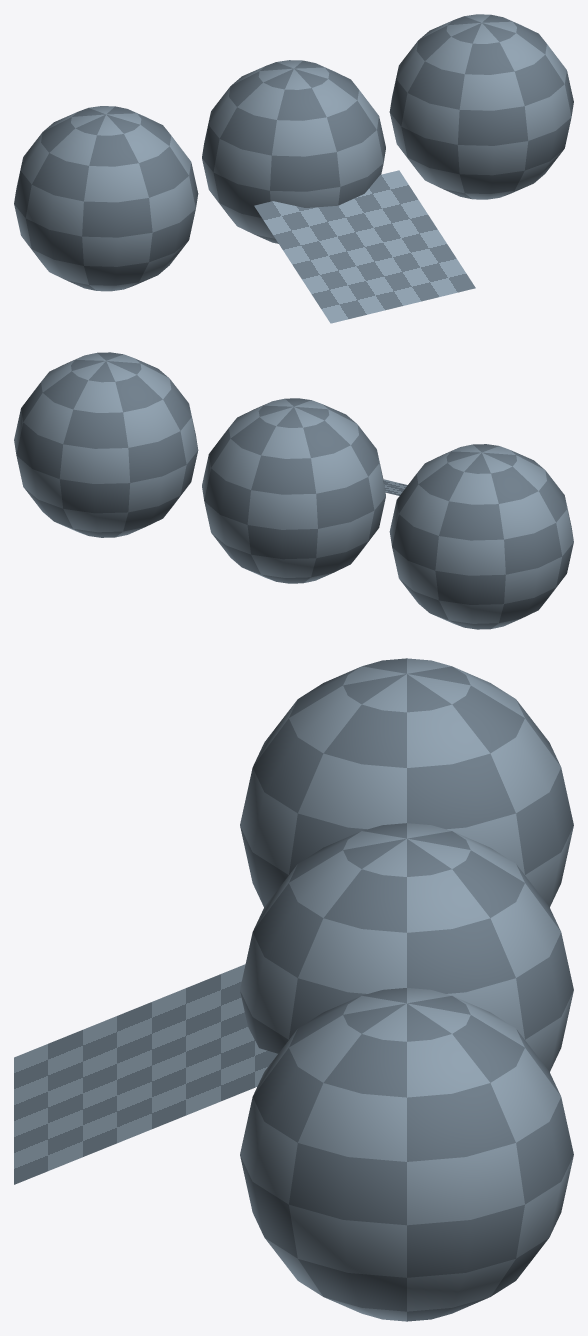
Rendered from pbr_probe.glb.
3 views of the same model, one above another, from view 1: azimuth 30°, elevation 25°; view 2: azimuth 150°, elevation 25°; view 3: azimuth 270°, elevation 25° (orthographic). The views are drawn at different scales.
Parts seen in each view (by area): view 1: PBR_Polished_Metal.002, PBR_Matte_Dielectric.002, PBR_Polished_Dielectric.002, PBR_Normal_Slope; view 2: PBR_Matte_Dielectric.002, PBR_Polished_Metal.002, PBR_Polished_Dielectric.002; view 3: PBR_Polished_Metal.002, PBR_Matte_Dielectric.002, PBR_Polished_Dielectric.002, PBR_Normal_Slope.
Part boxes in pixels (x1,y1,x2,y2): PBR_Polished_Metal.002: (389,14,573,199); PBR_Matte_Dielectric.002: (14,106,198,291); PBR_Polished_Dielectric.002: (202,60,385,243); PBR_Normal_Slope: (254,170,475,323); PBR_Matte_Dielectric.002: (389,444,573,629); PBR_Polished_Metal.002: (14,352,198,537); PBR_Polished_Dielectric.002: (202,398,385,583); PBR_Polished_Metal.002: (240,988,573,1321); PBR_Matte_Dielectric.002: (240,658,573,907); PBR_Polished_Dielectric.002: (240,823,573,1071); PBR_Normal_Slope: (14,964,277,1184).
Size of the model in its own units: 2.4 by 0.72 by 1.21.
Materials: 3 (3 with a texture image).
